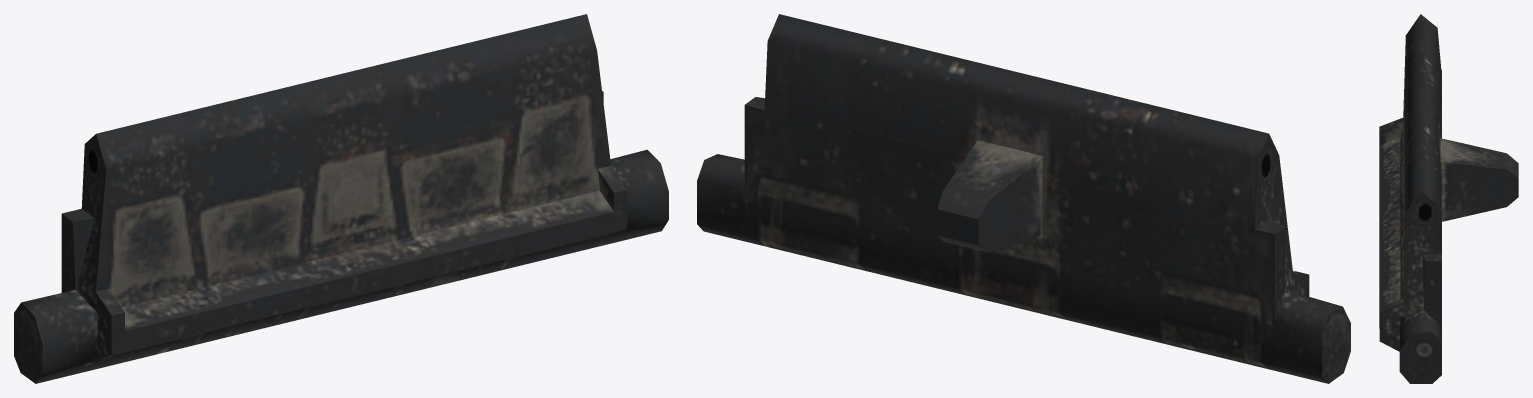
3 views of the same model, side by side, from view 1: azimuth 30°, elevation 25°; view 2: azimuth 150°, elevation 25°; view 3: azimuth 270°, elevation 25° (orthographic). The views are drawn at different scales.
Visible parts, largest first — view 1: set_0_group_0; view 2: set_0_group_0; view 3: set_0_group_0.
Boxes of the visible parts, x1,y1,x2,y2 form: set_0_group_0: (14,14,668,383); set_0_group_0: (697,14,1350,383); set_0_group_0: (1379,14,1518,383).
Size of the model in its own units: 0.5987 by 0.2087 by 0.1559.
1 material, 1 textured.
